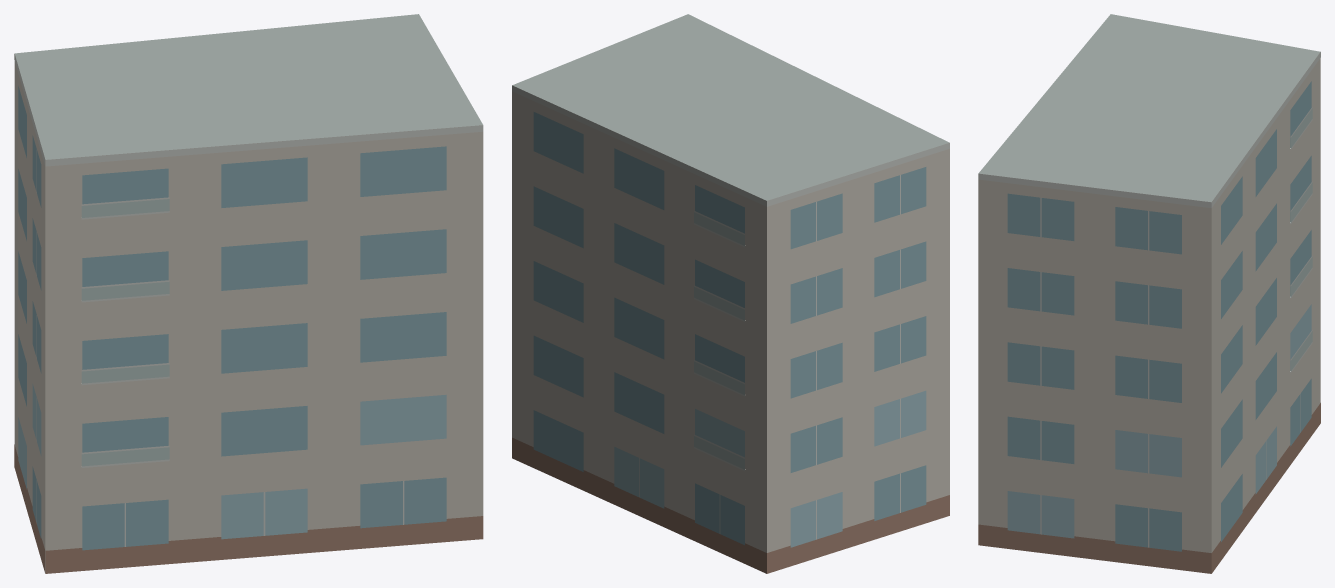
Rendered from survey-upis-32643351.glb.
The picture shows the model from 3 angles, left to right: view 1: azimuth 30°, elevation 25°; view 2: azimuth 150°, elevation 25°; view 3: azimuth 270°, elevation 25°; orthographic projection. The views are drawn at different scales.
Parts seen in each view (by area): view 1: survey-upis-32643351.tmp; view 2: survey-upis-32643351.tmp; view 3: survey-upis-32643351.tmp.
Part boxes in pixels (x1=…): survey-upis-32643351.tmp: x1=14, y1=14, x2=483, y2=573; survey-upis-32643351.tmp: x1=512, y1=14, x2=949, y2=573; survey-upis-32643351.tmp: x1=978, y1=14, x2=1320, y2=573.
Size of the model in its own units: 16.58 by 15.25 by 12.75.
